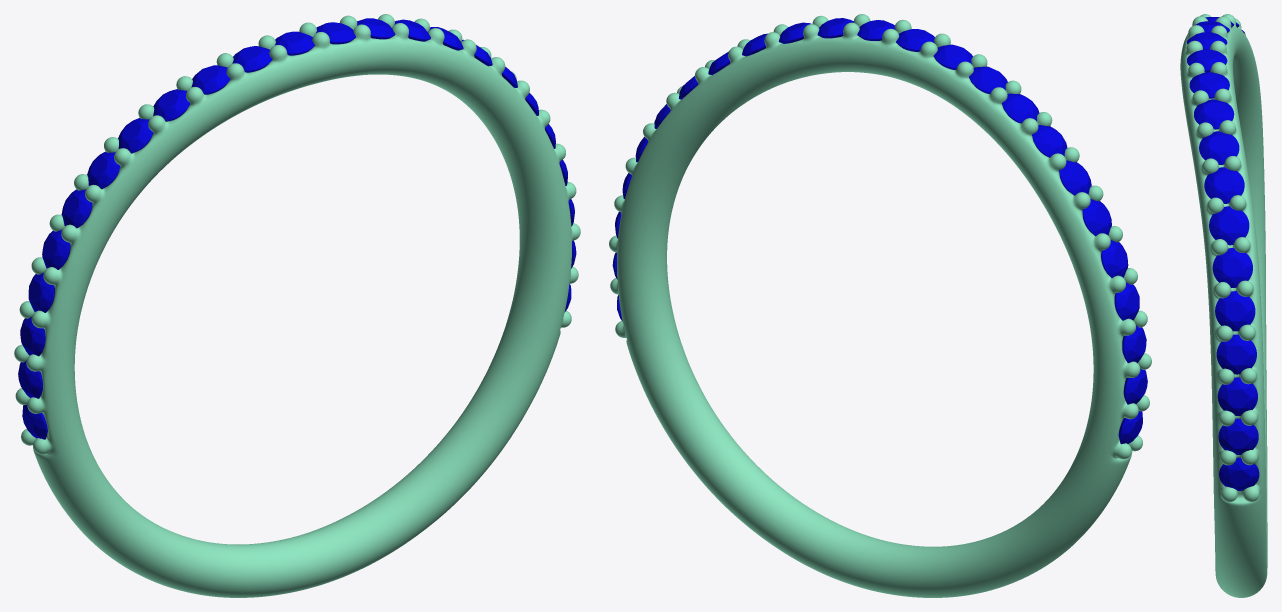
The picture shows the model from 3 angles, left to right: view 1: azimuth 30°, elevation 25°; view 2: azimuth 150°, elevation 25°; view 3: azimuth 270°, elevation 25°; orthographic projection. The views are drawn at different scales.
Parts seen in each view (by area): view 1: Metal03, Diamond_Band.018, Diamond_Band.019, Diamond_Band.017, Diamond_Band.020, Diamond_Band.016, Diamond_Band.021, Diamond_Band.015, Diamond_Band.022, Diamond_Band.014; view 2: Metal03, Diamond_Band.018, Diamond_Band.019, Diamond_Band.017, Diamond_Band.020, Diamond_Band.016, Diamond_Band.021, Diamond_Band.015; view 3: Metal03, Diamond_Band.007, Diamond_Band.008, Diamond_Band.006, Diamond_Band.005, Diamond_Band.009, Diamond_Band.004, Diamond_Band.010, Diamond_Band.003, Diamond_Band.011, Diamond_Band.002, Diamond_Band.001 (+3 smaller).
Part boxes in pixels (x1,y1,x2,y2): Metal03: [14, 14, 580, 597]; Diamond_Band.018: [87, 151, 120, 189]; Diamond_Band.019: [118, 118, 153, 153]; Diamond_Band.017: [61, 189, 92, 228]; Diamond_Band.020: [153, 89, 190, 121]; Diamond_Band.016: [42, 229, 70, 269]; Diamond_Band.021: [191, 65, 230, 94]; Diamond_Band.015: [28, 272, 54, 312]; Diamond_Band.022: [232, 46, 272, 72]; Diamond_Band.014: [20, 317, 45, 356]; Metal03: [609, 14, 1151, 597]; Diamond_Band.018: [1059, 160, 1091, 195]; Diamond_Band.019: [1032, 125, 1067, 157]; Diamond_Band.017: [1082, 198, 1111, 236]; Diamond_Band.020: [1002, 93, 1039, 123]; Diamond_Band.016: [1101, 240, 1128, 277]; Diamond_Band.021: [969, 66, 1007, 93]; Diamond_Band.015: [1114, 282, 1139, 320]; Metal03: [1180, 14, 1267, 597]; Diamond_Band.007: [1215, 291, 1255, 331]; Diamond_Band.008: [1216, 334, 1256, 374]; Diamond_Band.006: [1212, 248, 1252, 287]; Diamond_Band.005: [1209, 206, 1249, 245]; Diamond_Band.009: [1217, 377, 1257, 415]; Diamond_Band.004: [1204, 167, 1244, 203]; Diamond_Band.010: [1218, 418, 1258, 454]; Diamond_Band.003: [1199, 131, 1239, 164]; Diamond_Band.011: [1219, 457, 1259, 490]; Diamond_Band.002: [1194, 99, 1234, 129]; Diamond_Band.001: [1189, 72, 1229, 98].
Size of the model in its own units: 21.13 by 21 by 3.13.
